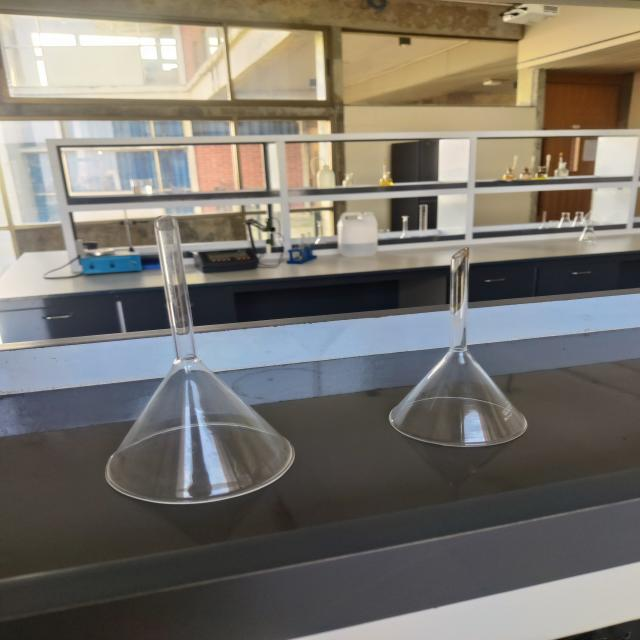Funnel: (77, 213, 313, 528), (357, 215, 572, 491)
